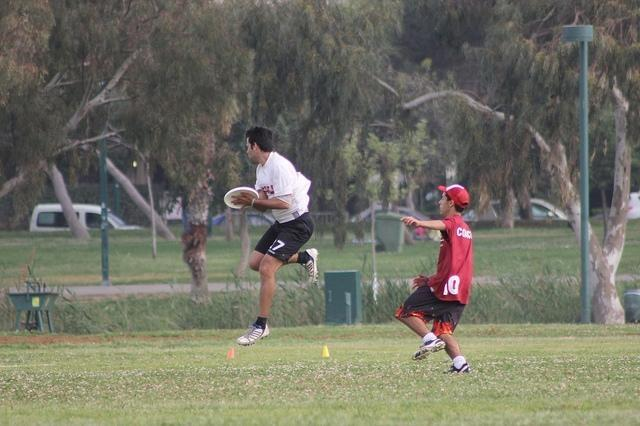car: (32, 204, 142, 233), (360, 200, 430, 222), (464, 201, 520, 224), (212, 212, 276, 228), (530, 198, 568, 222), (627, 192, 640, 218)
